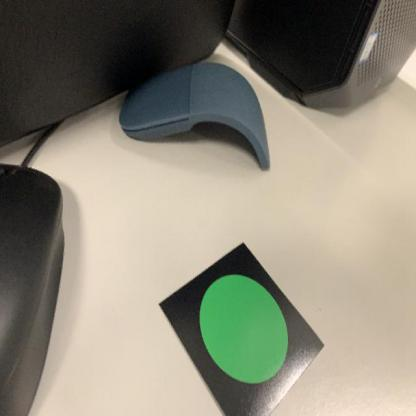go: (158, 238, 331, 416)
